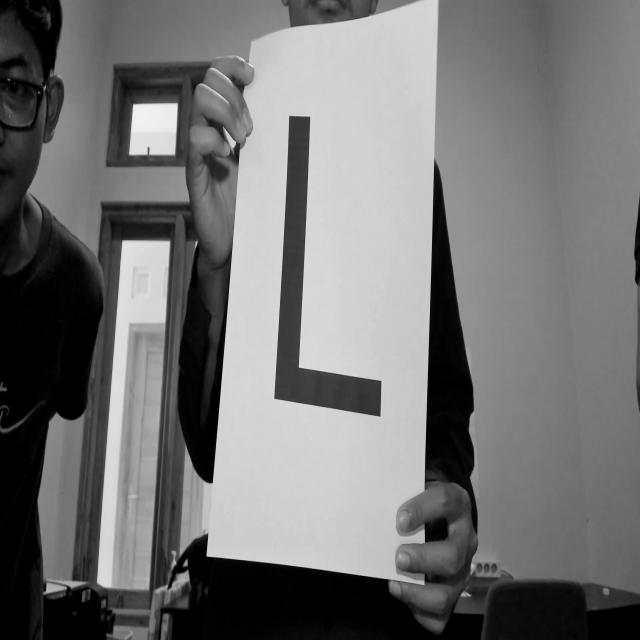l: (266, 95, 399, 441)
